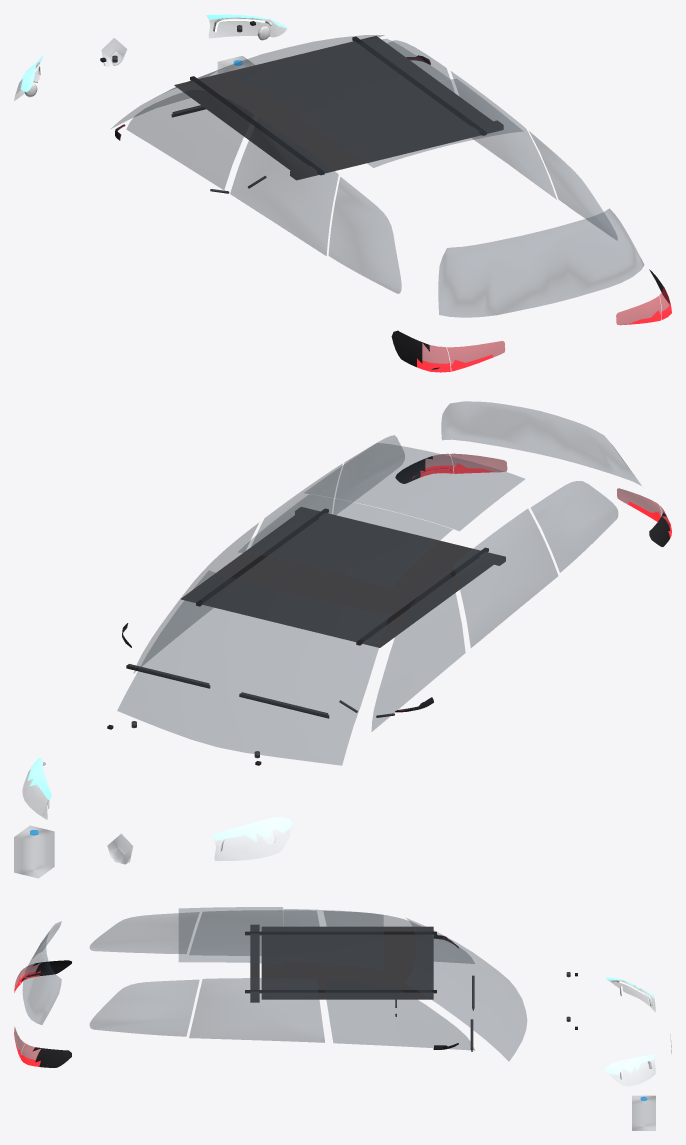
The model's file is lighting_glass.glb.
3 views of the same model, one above another, from view 1: azimuth 30°, elevation 25°; view 2: azimuth 150°, elevation 25°; view 3: azimuth 270°, elevation 25° (orthographic). The views are drawn at different scales.
Visible parts, largest first — view 1: Mercedes Benz GLS 580.015, SUV_Sunroof_Sunshade_Fabric, Mercedes Benz GLS 580.009, SUV_Sunroof_Roller_Cassette, SUV_Sunroof_Guide_Rail_L, SUV_Sunroof_Guide_Rail_R; view 2: Mercedes Benz GLS 580.015, SUV_Sunroof_Sunshade_Fabric, Mercedes Benz GLS 580.009, SUV_Sunroof_Roller_Cassette, SUV_Washer_Fluid_Reservoir, SUV_Sunroof_Guide_Rail_R, SUV_Sunroof_Guide_Rail_L; view 3: Mercedes Benz GLS 580.015, SUV_Sunroof_Sunshade_Fabric, Mercedes Benz GLS 580.009, SUV_Washer_Fluid_Reservoir, SUV_Sunroof_Guide_Rail_L, SUV_Sunroof_Roller_Cassette, SUV_Sunroof_Guide_Rail_R.
Part boxes in pixels (box(x1,y1,x2,y2)): Mercedes Benz GLS 580.015: box(111, 35, 643, 317); SUV_Sunroof_Sunshade_Fabric: box(174, 36, 492, 170); Mercedes Benz GLS 580.009: box(14, 14, 671, 372); SUV_Sunroof_Roller_Cassette: box(290, 120, 503, 180); SUV_Sunroof_Guide_Rail_L: box(190, 76, 324, 175); SUV_Sunroof_Guide_Rail_R: box(352, 36, 486, 135); Mercedes Benz GLS 580.015: box(117, 401, 641, 765); SUV_Sunroof_Sunshade_Fabric: box(181, 514, 495, 647); Mercedes Benz GLS 580.009: box(22, 453, 671, 864); SUV_Sunroof_Roller_Cassette: box(295, 507, 505, 565); SUV_Washer_Fluid_Reservoir: box(14, 825, 54, 878); SUV_Sunroof_Guide_Rail_R: box(196, 508, 328, 606); SUV_Sunroof_Guide_Rail_L: box(356, 547, 488, 645); Mercedes Benz GLS 580.015: box(22, 907, 526, 1061); SUV_Sunroof_Sunshade_Fabric: box(261, 926, 433, 999); Mercedes Benz GLS 580.009: box(14, 935, 671, 1086); SUV_Washer_Fluid_Reservoir: box(632, 1095, 655, 1130); SUV_Sunroof_Guide_Rail_L: box(245, 931, 436, 935); SUV_Sunroof_Roller_Cassette: box(250, 924, 259, 1002); SUV_Sunroof_Guide_Rail_R: box(245, 990, 436, 993).
Size of the model in its own units: 2 by 1.31 by 4.97.
